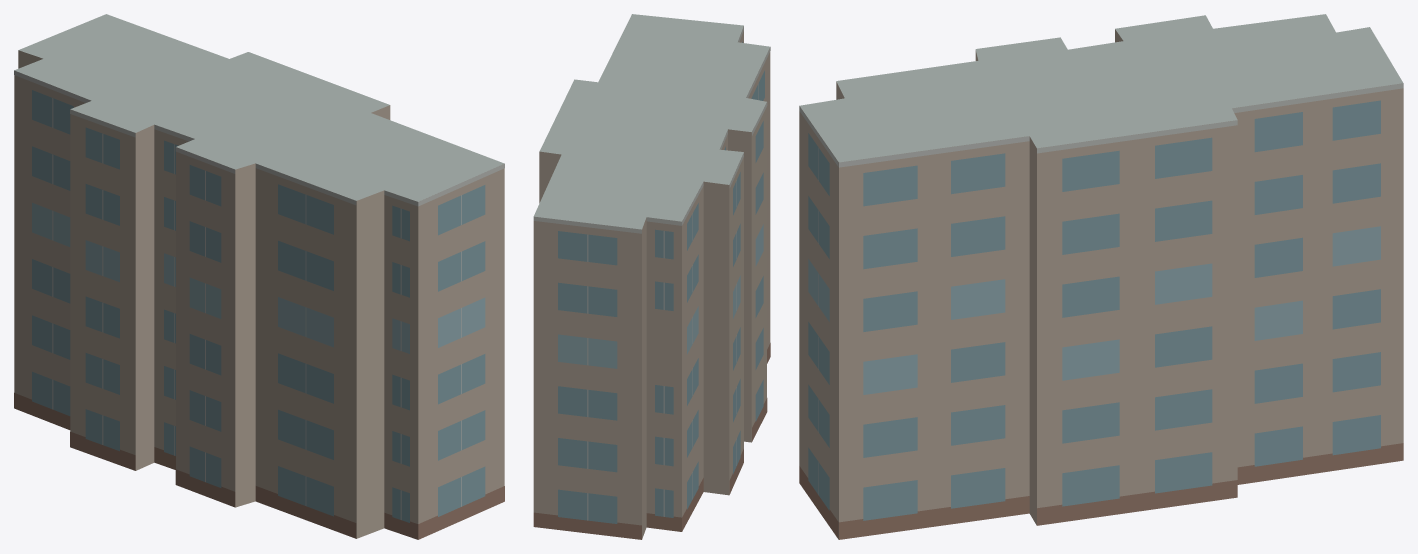
File: survey-upis-32561038.glb
The picture shows the model from 3 angles, left to right: view 1: azimuth 30°, elevation 25°; view 2: azimuth 150°, elevation 25°; view 3: azimuth 270°, elevation 25°; orthographic projection. The views are drawn at different scales.
Visible parts, largest first — view 1: survey-upis-32561038.tmp; view 2: survey-upis-32561038.tmp; view 3: survey-upis-32561038.tmp.
Boxes of the visible parts, x1,y1,x2,y2 form: survey-upis-32561038.tmp: (14, 14, 504, 539); survey-upis-32561038.tmp: (533, 14, 770, 539); survey-upis-32561038.tmp: (799, 14, 1403, 539).
Bounding box in the file's own units: 15.11 × 17.9 × 25.98.
